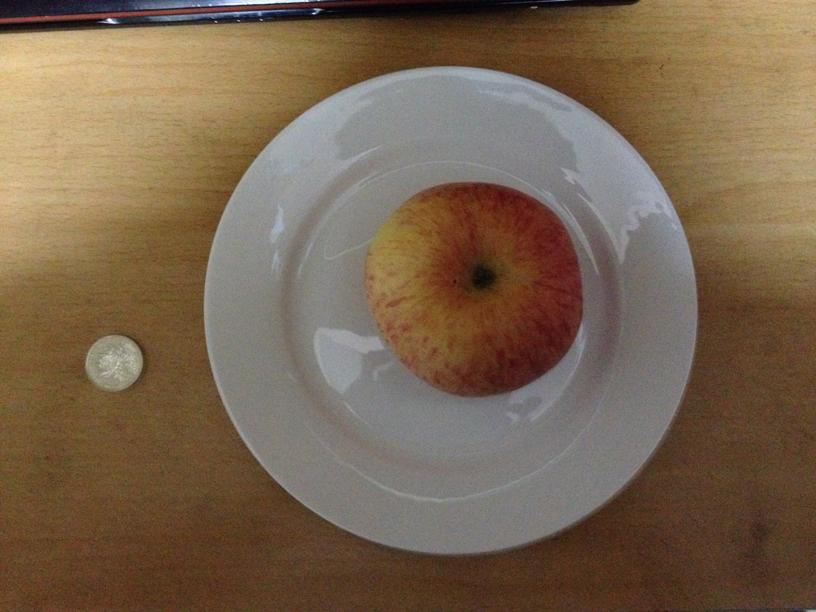apple: (361, 184, 585, 399)
coin: (82, 334, 144, 392)
